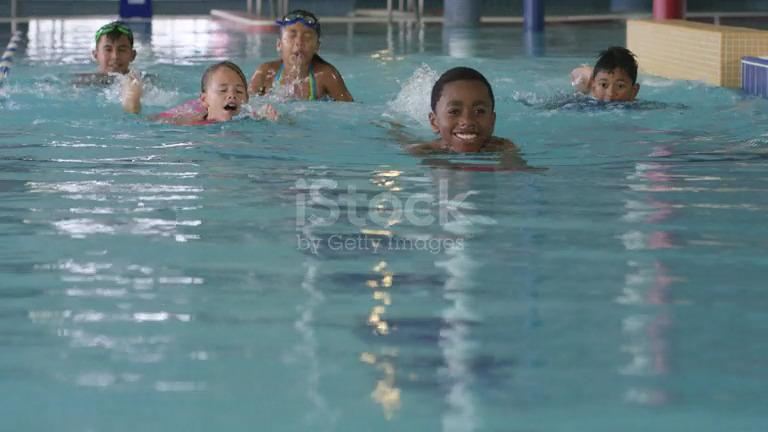Swimming: (378, 57, 540, 185), (531, 22, 665, 107), (49, 9, 151, 115), (156, 41, 256, 133)
